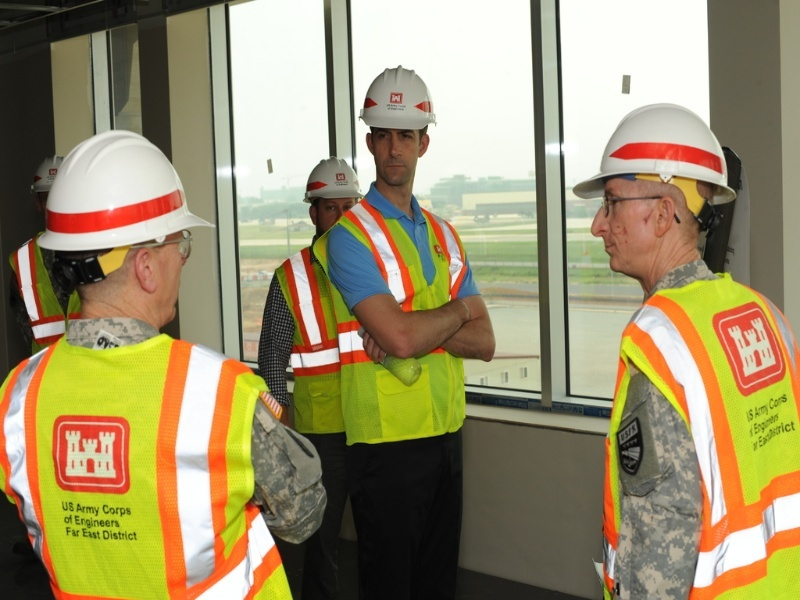Baret: (37, 130, 218, 249), (571, 102, 737, 216), (361, 65, 437, 133), (303, 154, 366, 209)
